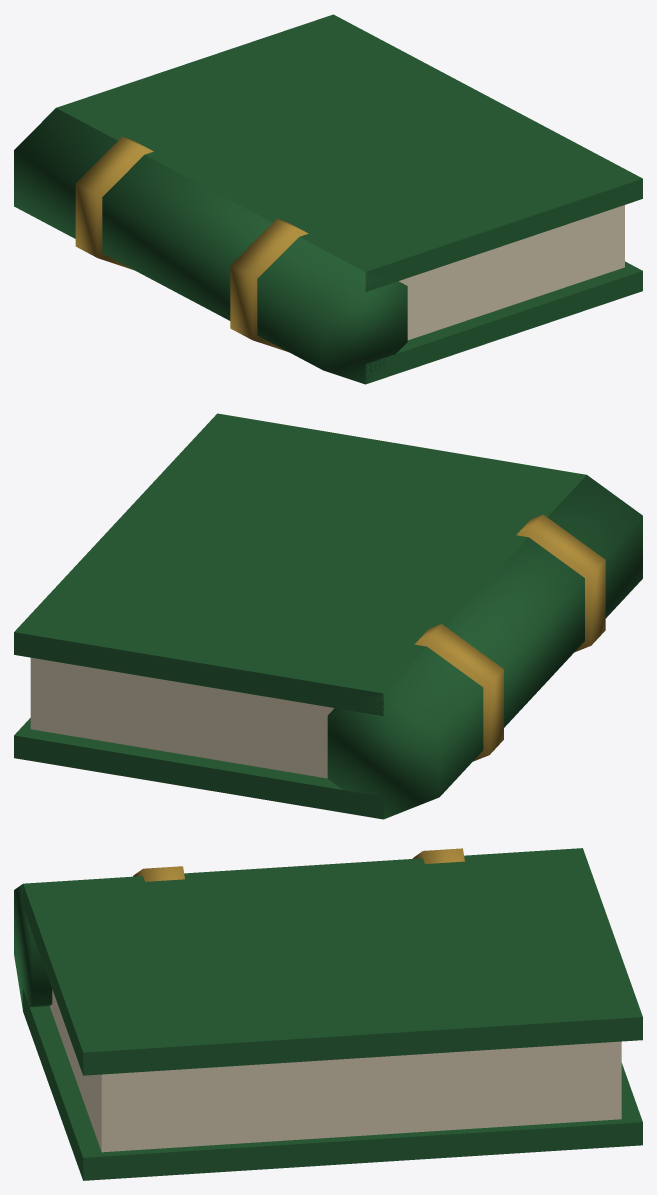
Rendered from book_v2.glb.
The picture shows the model from 3 angles, top to bottom: view 1: azimuth 30°, elevation 25°; view 2: azimuth 150°, elevation 25°; view 3: azimuth 270°, elevation 25°; orthographic projection. The views are drawn at different scales.
Parts seen in each view (by area): view 1: book_v2; view 2: book_v2; view 3: book_v2.
Boxes of the visible parts, left/top/right/bottom form: book_v2: left=14, top=14, right=642, bottom=384; book_v2: left=14, top=413, right=642, bottom=819; book_v2: left=14, top=848, right=642, bottom=1180.
Size of the model in its own units: 0.2694 by 0.078 by 0.3111.
